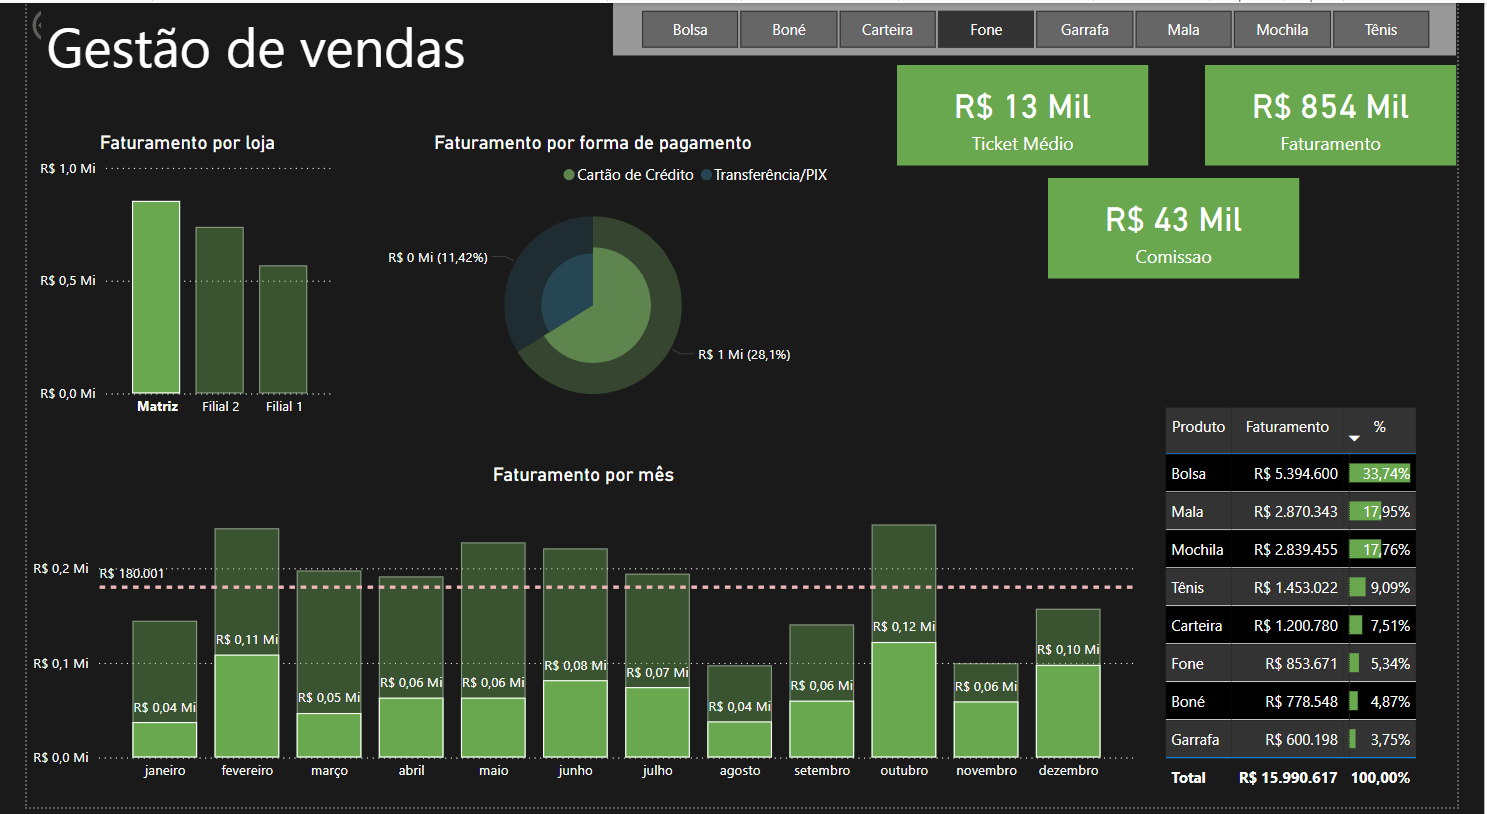

This screenshot's page, from the dashboard's own definition file:
{"tool":"powerbi","page":{"name":"Página 1","canvas":[1280,720],"ordinal":0},"visuals":[{"type":"card","fields":{"Values":["Avg(Vendas.Valor Venda)"]},"box":[779.1,55.5,224.8,90.4],"z":0},{"type":"card","fields":{"Values":["Sum(Vendas.Valor Venda)"]},"box":[1054.9,55.5,224.8,90.4],"z":1000},{"type":"actionButton","box":[0,0,100,40],"z":2000},{"type":"clusteredColumnChart","title":"Faturamento por mês","fields":{"Category":["Vendas.Data Pedido.Variation.Hierarquia de datas.Mês"],"Y":["Sum(Vendas.Valor Venda)"]},"box":[0,411.9,996.7,293.7],"z":3000},{"type":"pieChart","title":"Faturamento por forma de pagamento","fields":{"Y":["Sum(Vendas.Valor Venda)"],"Category":["Vendas.Pagamento"]},"box":[287.5,114.6,438.8,264.2],"z":4000},{"type":"clusteredColumnChart","title":"Faturamento por loja","fields":{"Y":["Sum(Vendas.Valor Venda)"],"Category":["lojas.nome_loja"]},"box":[0,113.7,274.9,265.1],"z":5000},{"type":"tableEx","fields":{"Values":["Vendas.Produto","Sum(Vendas.Valor Venda)","Divide(Sum(Vendas.Valor Venda), ScopedEval(Sum(Vendas.Valor Venda), []))"]},"box":[1013.7,357.3,249.9,362.7],"z":6000},{"type":"slicer","fields":{"Values":["Vendas.Produto"]},"box":[524.8,0,754.9,46.6],"z":7000},{"type":"textbox","box":[12.5,0,470.1,93.1],"z":8000},{"type":"card","fields":{"Values":["Vendas.Comissao"]},"box":[914.3,156.7,224.8,90.4],"z":9000}]}

Visuals, with their boxes in screenshot pixels (x1, y1, x2, y2), scaled from the page's 1280x720 canvas onto the 1487x814 screenshot:
card - Avg(Vendas.Valor Venda): (905, 63, 1166, 165)
card - Sum(Vendas.Valor Venda): (1225, 63, 1486, 165)
actionButton: (0, 0, 116, 45)
"Faturamento por mês" clusteredColumnChart: (0, 466, 1158, 798)
"Faturamento por forma de pagamento" pieChart: (334, 130, 844, 428)
"Faturamento por loja" clusteredColumnChart: (0, 129, 319, 428)
tableEx - Vendas.Produto x Sum(Vendas.Valor Venda): (1178, 404, 1468, 813)
slicer - Vendas.Produto: (610, 0, 1486, 53)
textbox: (15, 0, 561, 105)
card - Vendas.Comissao: (1062, 177, 1323, 279)
